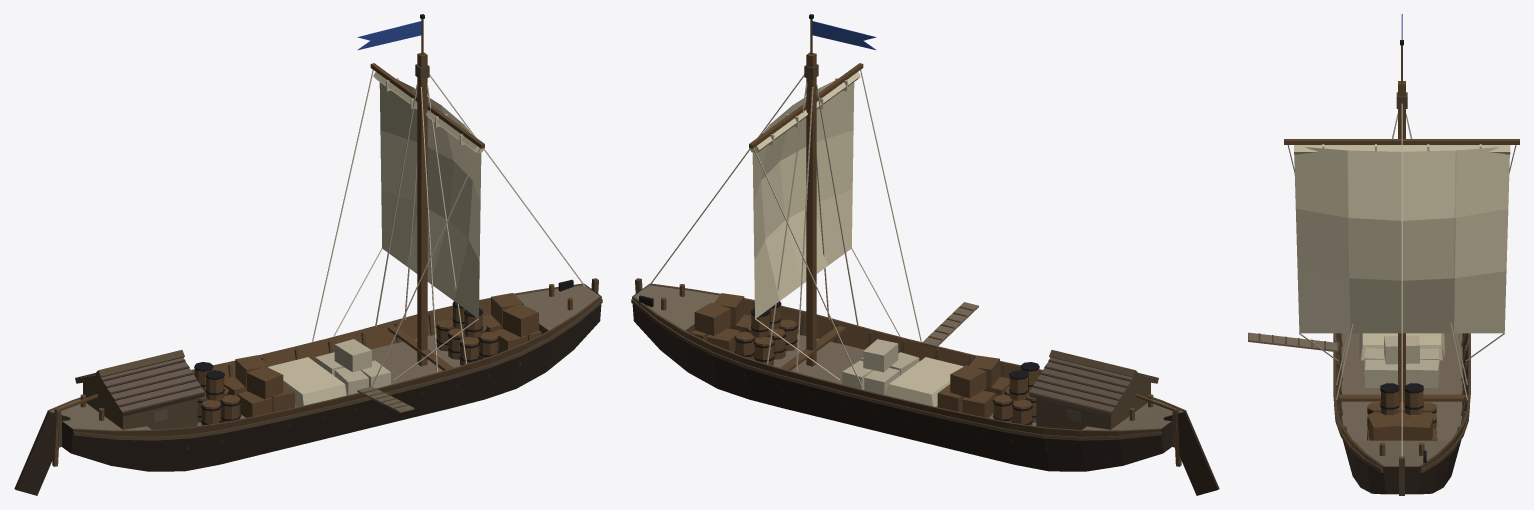
The model's file is wasser_schiff.glb.
The picture shows the model from 3 angles, left to right: view 1: azimuth 30°, elevation 25°; view 2: azimuth 150°, elevation 25°; view 3: azimuth 270°, elevation 25°; orthographic projection. The views are drawn at different scales.
Visible parts, largest first — view 1: Schiff, Segel_Gesetzt, Ladung_2, Ladung_5, Ladung_4, Ladung_6, Ladung_3, Ladung_1, Fahne, Segel_Gerefft; view 2: Schiff, Segel_Gesetzt, Ladung_2, Ladung_5, Ladung_4, Ladung_6, Ladung_3, Ladung_1, Fahne, Laufplanke, Segel_Gerefft; view 3: Segel_Gesetzt, Schiff, Ladung_4, Ladung_5, Ladung_6, Segel_Gerefft, Ladung_3, Laufplanke.
Boxes of the visible parts, x1,y1,x2,y2 form: Schiff: (14,52,602,495); Segel_Gesetzt: (333,80,481,380); Ladung_2: (224,355,294,417); Ladung_5: (436,301,498,365); Ladung_4: (315,339,390,395); Ladung_6: (482,293,541,352); Ladung_3: (268,357,347,406); Ladung_1: (194,362,240,425); Fahne: (357,14,424,54); Segel_Gerefft: (373,72,484,152); Schiff: (631,52,1219,495); Segel_Gesetzt: (752,80,900,380); Ladung_2: (937,355,1009,417); Ladung_5: (735,301,797,365); Ladung_4: (842,339,919,395); Ladung_6: (691,293,751,352); Ladung_3: (886,357,963,406); Ladung_1: (993,362,1039,425); Fahne: (809,14,876,54); Laufplanke: (922,302,978,347); Segel_Gerefft: (749,72,860,152); Segel_Gesetzt: (1294,147,1509,361); Schiff: (1284,81,1519,495); Ladung_4: (1364,335,1439,388); Ladung_5: (1367,383,1436,434); Ladung_6: (1367,415,1437,440); Segel_Gerefft: (1294,144,1510,154); Ladung_3: (1359,333,1444,360); Laufplanke: (1248,332,1338,352).
Size of the model in its own units: 21.88 by 13.86 by 8.3.
